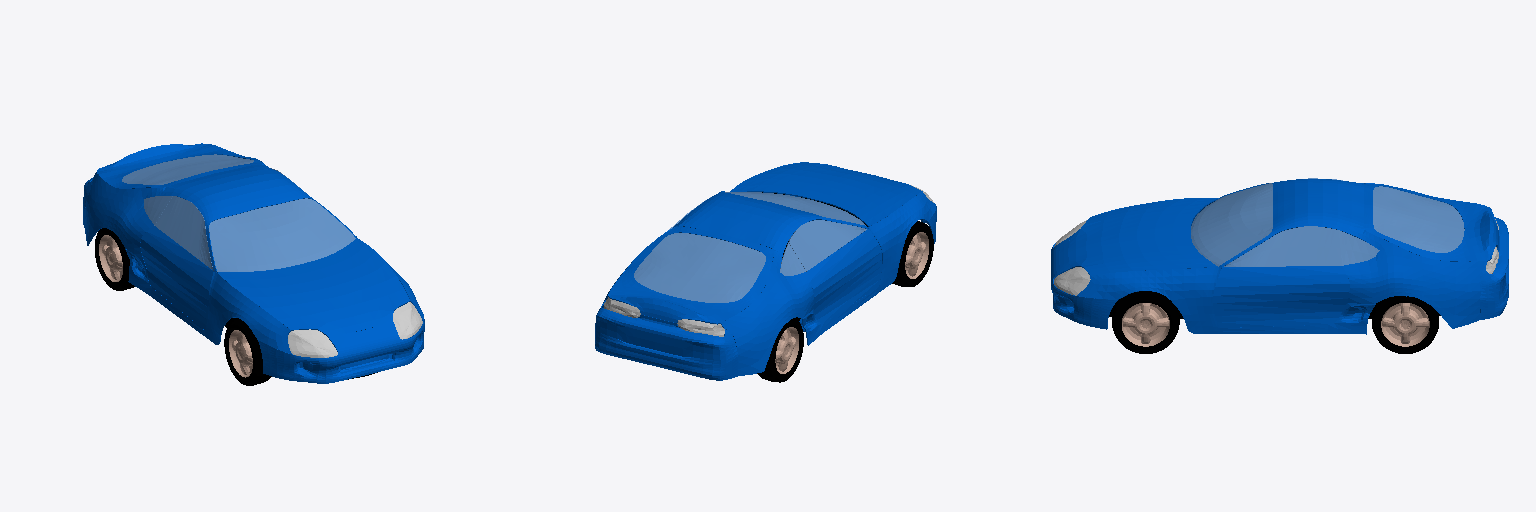
The model's file is Suprab.obj.
The picture shows the model from 3 angles: view 1: azimuth 30°, elevation 25°; view 2: azimuth 150°, elevation 25°; view 3: azimuth 270°, elevation 25°; orthographic projection.
Visible parts, largest first — view 1: FrontDoor; view 2: FrontDoor; view 3: FrontDoor.
Boxes of the visible parts, box(x1,y1,x2,y2) form: FrontDoor: box(83, 143, 424, 385); FrontDoor: box(595, 162, 936, 382); FrontDoor: box(1051, 178, 1508, 353).
Bounding box in the file's own units: 3.04 × 2.05 × 7.16.